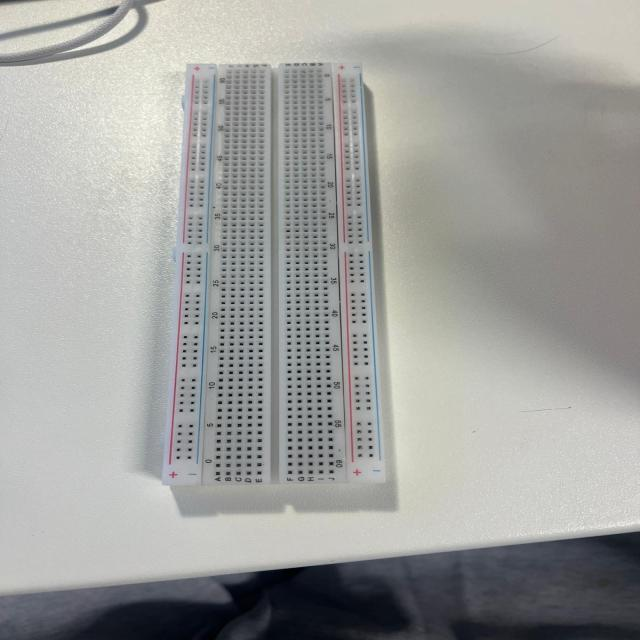BreadBoard: (154, 57, 434, 524)
